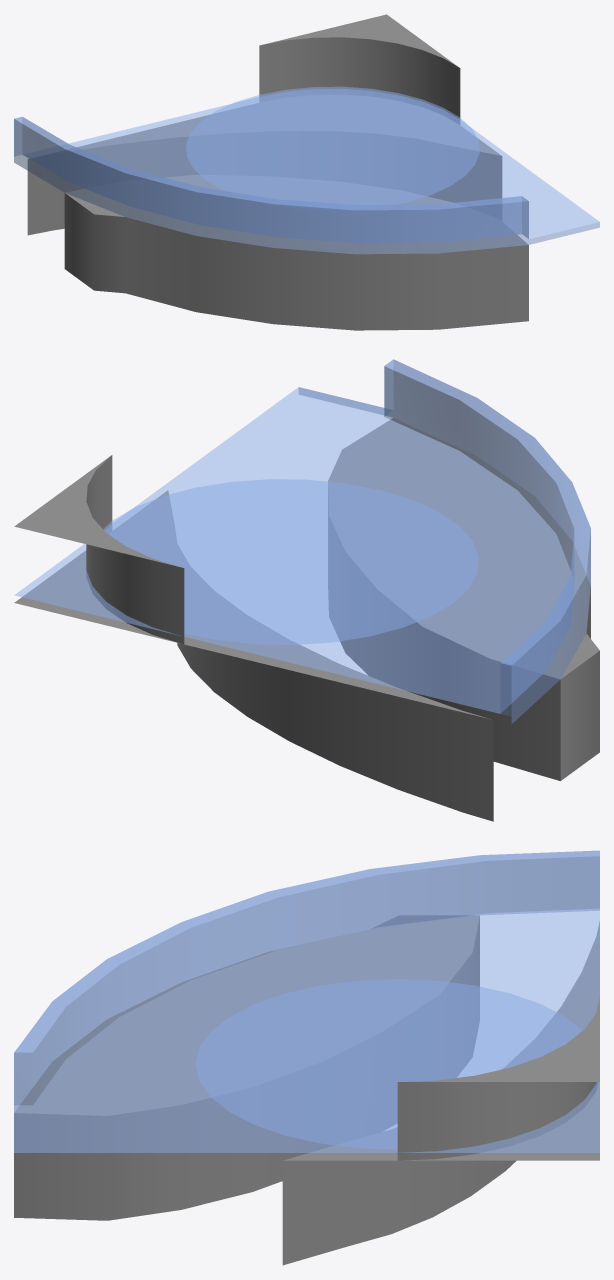
File: Taivaankansi.FBX
3 renders of one model, top to bottom at view 1: azimuth 30°, elevation 25°; view 2: azimuth 150°, elevation 25°; view 3: azimuth 270°, elevation 25°, orthographic. The views are drawn at different scales.
Parts seen in each view (by area): view 1: Taivaankansi Platform, Orbit Wall001, Back Orbit001, Taivaankansi Constellation Platform, Taivaankansi Wall; view 2: Taivaankansi Platform, Orbit Wall001, Taivaankansi Constellation Platform, Back Orbit001, Taivaankansi Wall; view 3: Taivaankansi Platform, Orbit Wall001, Taivaankansi Constellation Platform, Back Orbit001, Taivaankansi Wall.
Boxes of the visible parts, x1=… form: Taivaankansi Platform: x1=14, y1=89, x2=599, y2=254; Orbit Wall001: x1=64, y1=174, x2=528, y2=330; Back Orbit001: x1=27, y1=95, x2=502, y2=235; Taivaankansi Constellation Platform: x1=186, y1=86, x2=479, y2=204; Taivaankansi Wall: x1=259, y1=14, x2=460, y2=124; Taivaankansi Platform: x1=14, y1=359, x2=590, y2=723; Orbit Wall001: x1=328, y1=418, x2=599, y2=780; Taivaankansi Constellation Platform: x1=103, y1=479, x2=478, y2=644; Back Orbit001: x1=14, y1=490, x2=493, y2=821; Taivaankansi Wall: x1=14, y1=455, x2=184, y2=644; Taivaankansi Platform: x1=14, y1=850, x2=599, y2=1152; Orbit Wall001: x1=14, y1=915, x2=479, y2=1220; Taivaankansi Constellation Platform: x1=195, y1=979, x2=582, y2=1149; Back Orbit001: x1=282, y1=921, x2=599, y2=1265; Taivaankansi Wall: x1=397, y1=997, x2=599, y2=1160.
Size of the model in its own units: 0.2047 by 0.07 by 0.2027.
